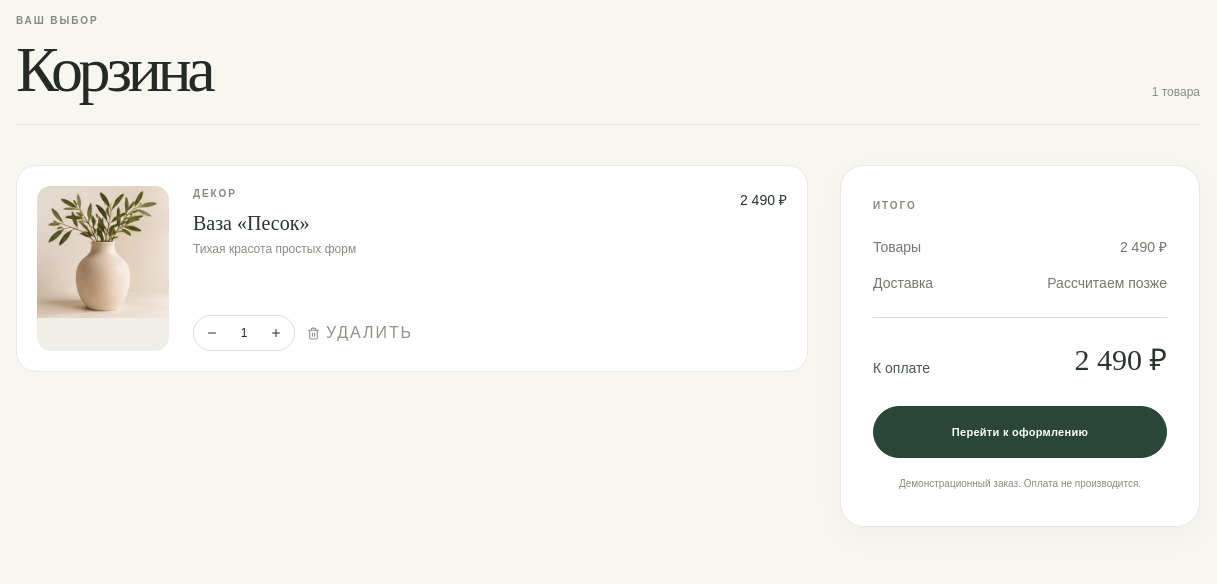
Scenario: CartPageContent integration › updates quantity and removes the product
Expected: the link "Ваза «Песок»" is shown, [193,209,309,237]
Click the button named "Увеличить количество" at (276, 333), box [258,315,294,351]
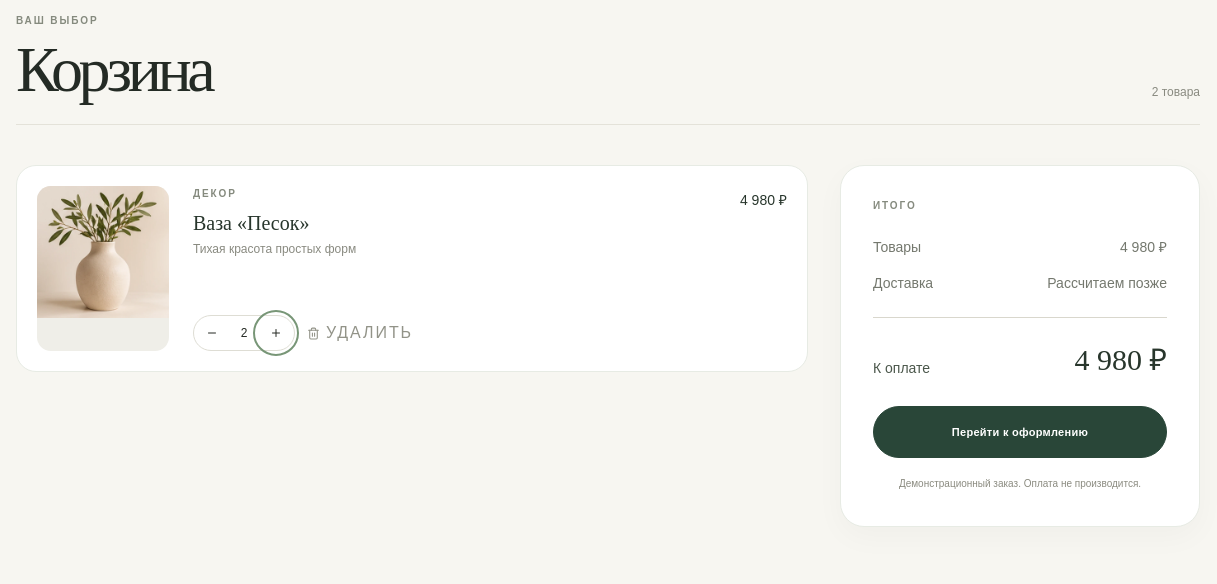
Click the button "Удалить" at (360, 333), box [307,321,413,345]
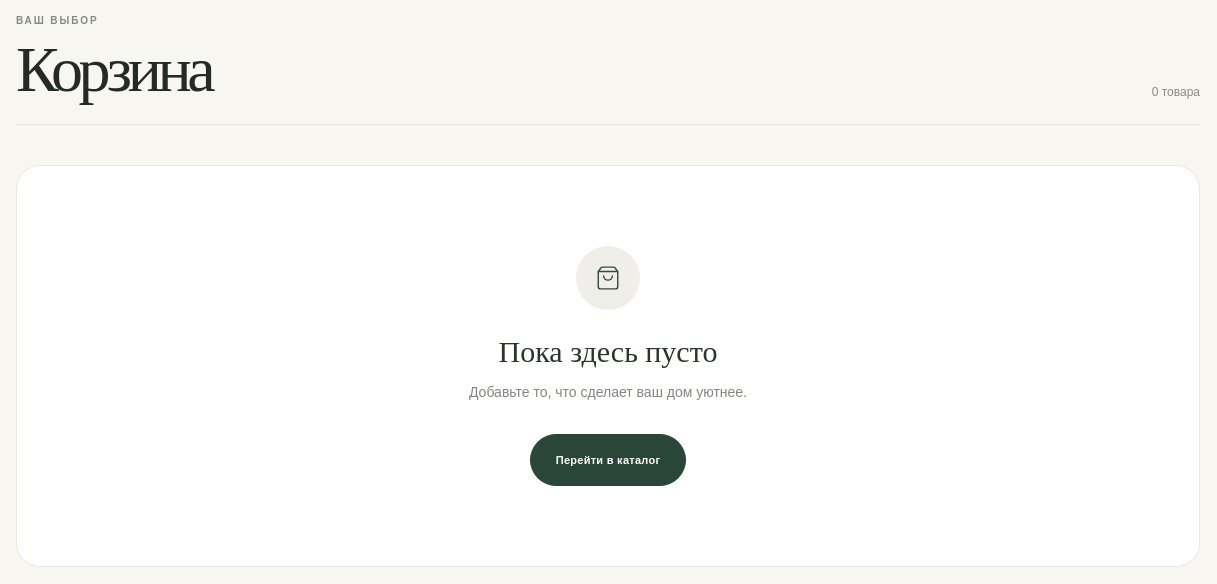
Result: the heading "Пока здесь пусто" is shown at [499,335,717,368]
